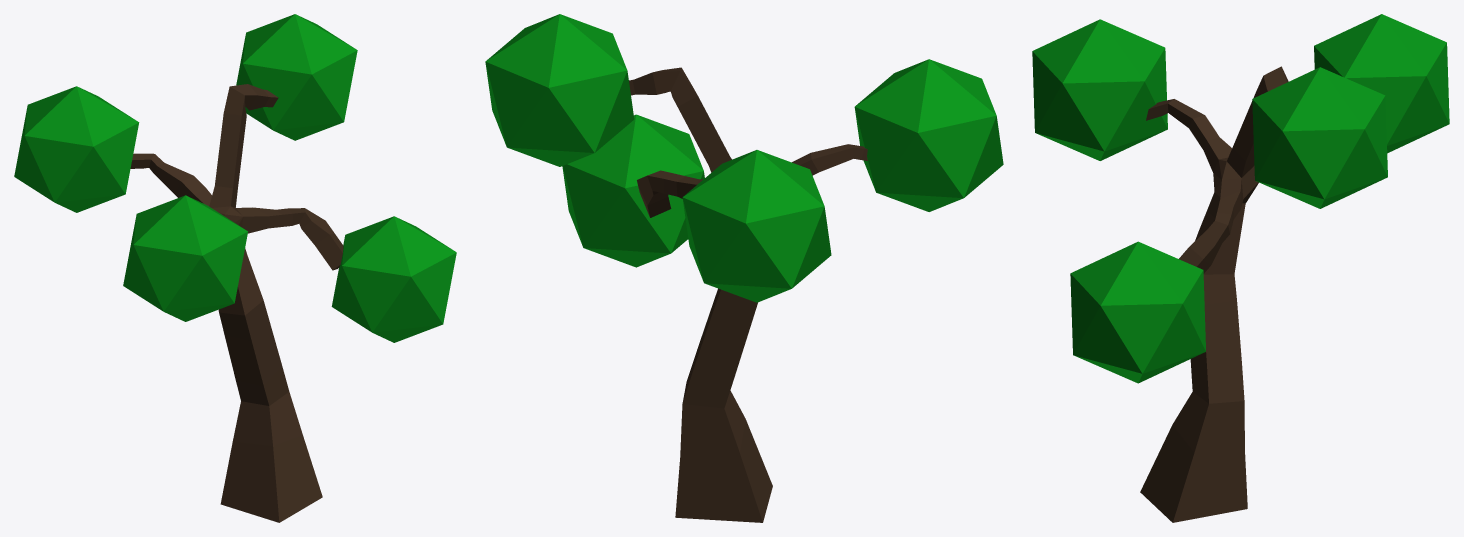
The model's file is ASSET_TREE.glb.
3 views of the same model, side by side, from view 1: azimuth 30°, elevation 25°; view 2: azimuth 150°, elevation 25°; view 3: azimuth 270°, elevation 25° (orthographic). The views are drawn at different scales.
Visible parts, largest first — view 1: ASSET_TREE.000|0; view 2: ASSET_TREE.000|0; view 3: ASSET_TREE.000|0.
Boxes of the visible parts, <box> form: ASSET_TREE.000|0: <box>14,14,456,522</box>; ASSET_TREE.000|0: <box>485,14,1003,522</box>; ASSET_TREE.000|0: <box>1032,14,1449,522</box>.
Size of the model in its own units: 2.64 by 3.22 by 2.55.
